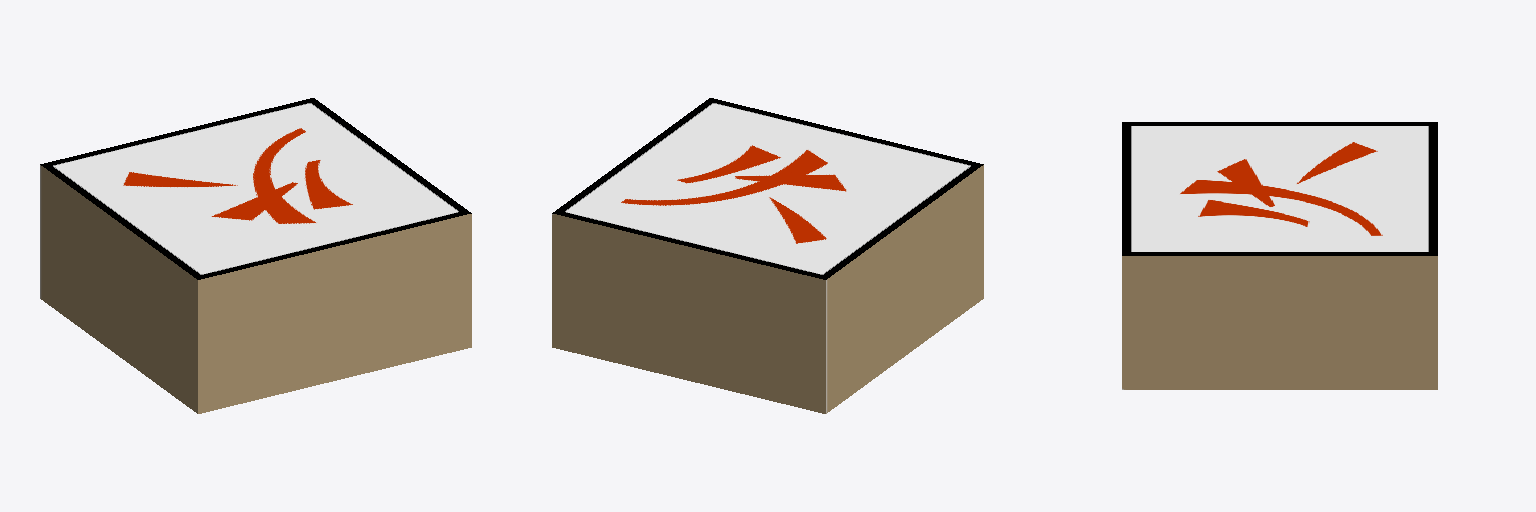
3 renders of one model, left to right at view 1: azimuth 30°, elevation 25°; view 2: azimuth 150°, elevation 25°; view 3: azimuth 270°, elevation 25°, orthographic.
Parts seen in each view (by area): view 1: p_kauk_Cube; view 2: p_kauk_Cube; view 3: p_kauk_Cube.
Part boxes in pixels (bbox=[...]): p_kauk_Cube: bbox=[40, 98, 471, 413]; p_kauk_Cube: bbox=[552, 98, 983, 413]; p_kauk_Cube: bbox=[1122, 122, 1437, 389].
Size of the model in its own units: 2 by 0.9359 by 2.
1 materials, 1 textured.